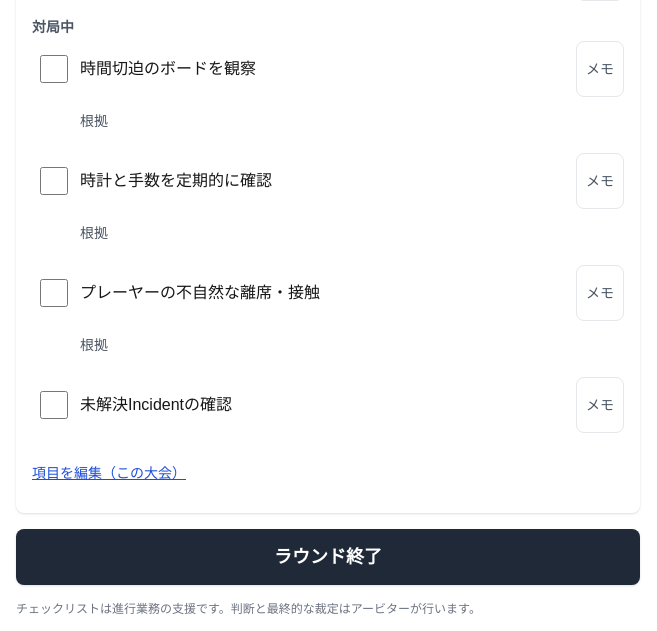
it: Round Checklist page › end with a pending incident requires explicit confirmation, then shows the post-round phase
This screenshot has width=657, height=631.
(page scrolled)
Click the button "ラウンド終了". click: (328, 557)
box: x1=16 y1=529 x2=640 y2=585
(page scrolled)
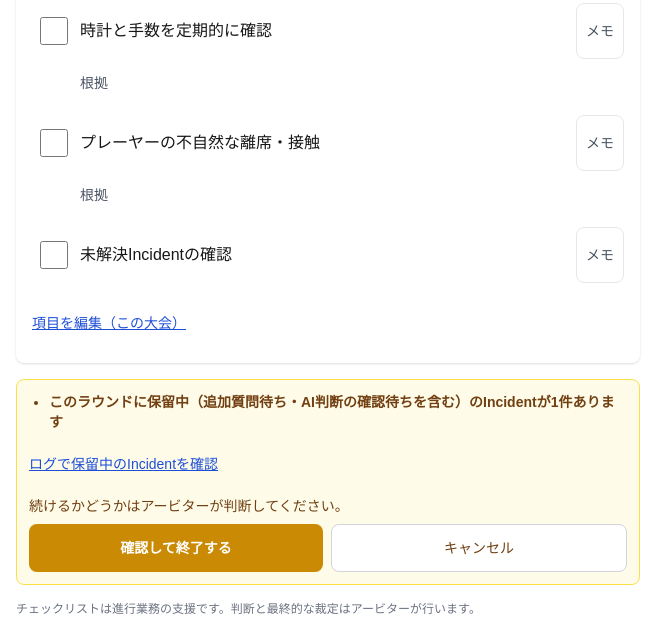
Expected: the list item "このラウンドに保留中（追加質問待ち・AI判断の確認待ちを含む）のIncidentが1件あります" is shown, x1=49 y1=392 x2=627 y2=432
Expected: the link "ログで保留中のIncidentを確認" is shown, x1=29 y1=456 x2=218 y2=472
Click the button "確認して終了する". click: (176, 548)
box: x1=29 y1=524 x2=323 y2=572
(page scrolled)
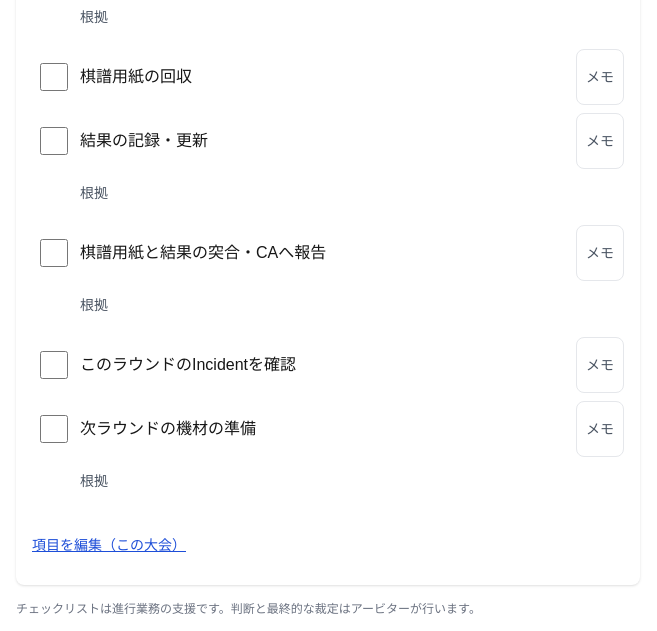
Expected: the button "ラウンド終了" is not shown
Expected: the checkbox labelled "棋譜用紙の回収" is shown, x1=40 y1=63 x2=68 y2=91
